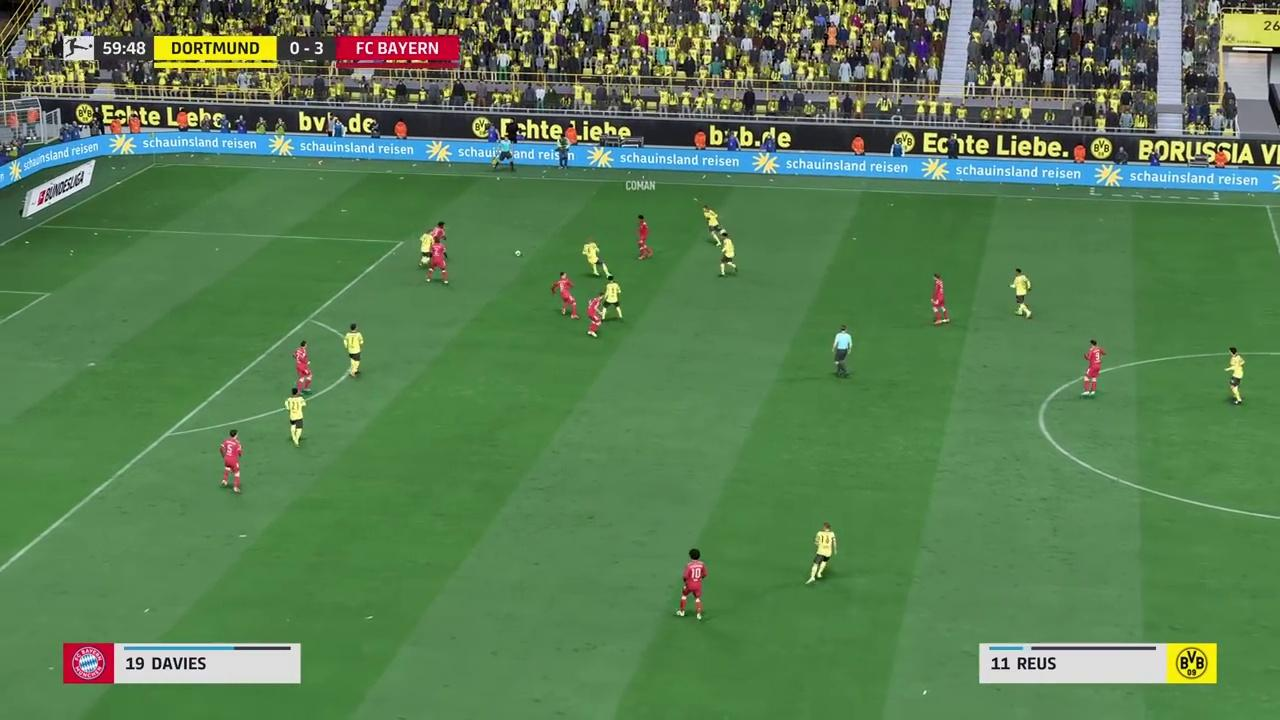scoreboard: (157, 33, 460, 68)
timestamp: (94, 36, 152, 60)
